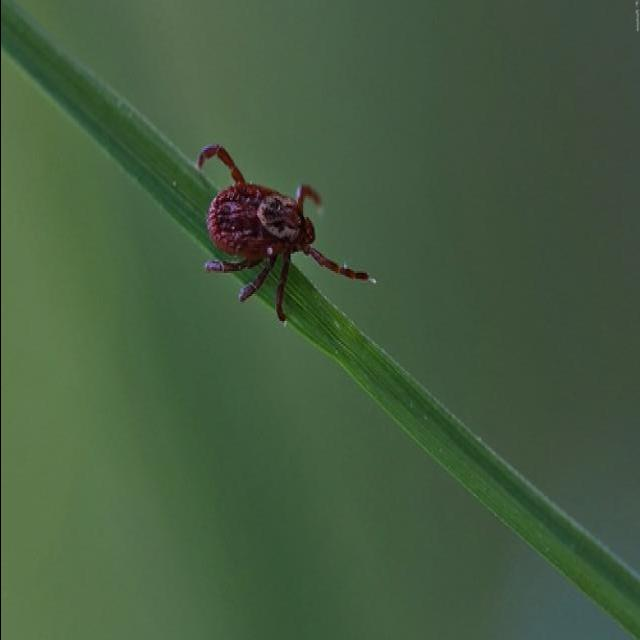Dermacentor Reticulatus-F: (200, 146, 371, 309)
